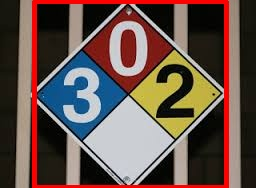nfpa: (34, 1, 226, 187)
